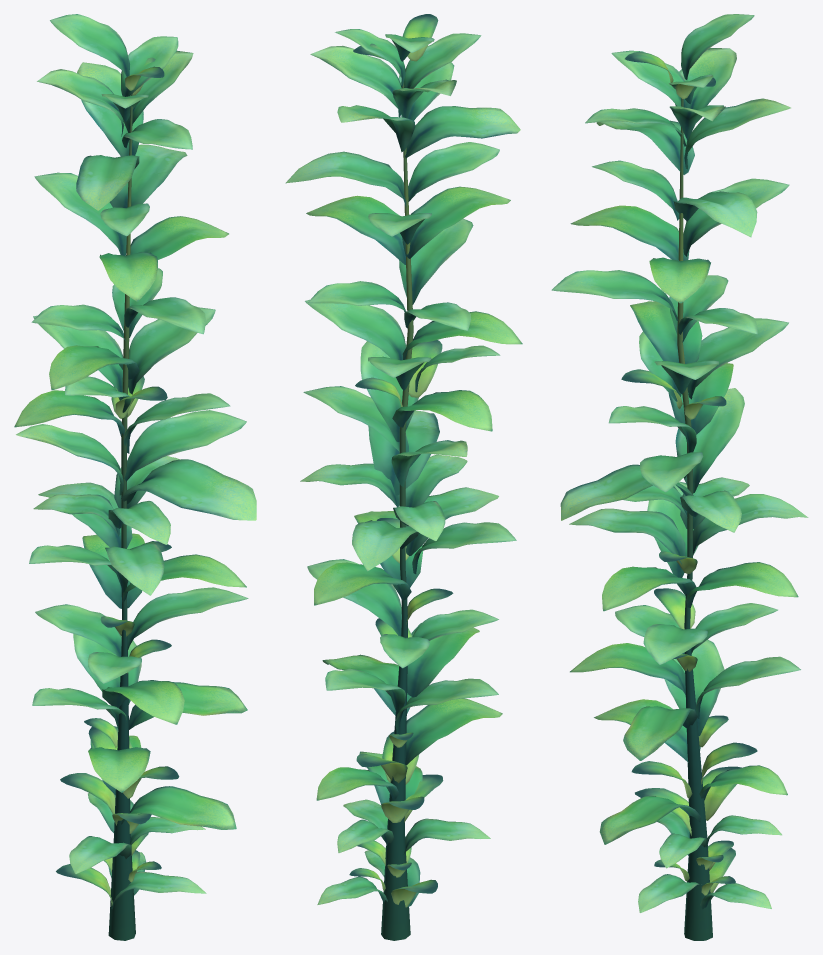
The model's file is Mode_KelpFourniGrand.fbx.
The picture shows the model from 3 angles, left to right: view 1: azimuth 30°, elevation 25°; view 2: azimuth 150°, elevation 25°; view 3: azimuth 270°, elevation 25°; orthographic projection.
Visible parts, largest first — view 1: pPlane61 (×2), pPlane15 (×2), pCylinder1, pPlane38 (×2), pPlane37 (×2), pPlane52 (×2), pPlane57 (×2), pPlane12 (×2), pPlane9 (×2), pPlane56 (×2), pPlane51 (×2), pPlane11 (×2) (+19 smaller); view 2: pPlane61 (×2), pCylinder1, pPlane52 (×2), pPlane12 (×2), pPlane9 (×2), pPlane51 (×2), pPlane37 (×2), pPlane38 (×2), pPlane56 (×2), pPlane21 (×2), pPlane15 (×2), pPlane11 (×2) (+24 smaller); view 3: pCylinder1, pPlane56 (×2), pPlane38 (×2), pPlane7 (×2), pPlane57 (×2), pPlane37 (×2), pPlane9 (×2), pPlane61 (×2), pPlane12 (×2), pPlane1 (×2), pPlane52 (×2), pPlane11 (×2) (+22 smaller).
Boxes of the visible parts, x1=… form: pPlane61 (×2): x1=76, y1=155, x2=256, y2=520; pPlane15 (×2): x1=122, y1=119, x2=246, y2=481; pCylinder1: x1=108, y1=93, x2=135, y2=940; pPlane38 (×2): x1=49, y1=345, x2=184, y2=724; pPlane37 (×2): x1=124, y1=297, x2=248, y2=650; pPlane52 (×2): x1=14, y1=390, x2=150, y2=792; pPlane57 (×2): x1=16, y1=62, x2=143, y2=495; pPlane12 (×2): x1=38, y1=144, x2=187, y2=548; pPlane9 (×2): x1=82, y1=216, x2=228, y2=608; pPlane56 (×2): x1=99, y1=252, x2=246, y2=602; pPlane51 (×2): x1=73, y1=307, x2=215, y2=708; pPlane11 (×2): x1=29, y1=172, x2=128, y2=592; pPlane61 (×2): x1=368, y1=106, x2=520, y2=495; pCylinder1: x1=381, y1=82, x2=413, y2=940; pPlane52 (×2): x1=392, y1=390, x2=502, y2=765; pPlane12 (×2): x1=285, y1=151, x2=418, y2=571; pPlane9 (×2): x1=306, y1=195, x2=411, y2=605; pPlane51 (×2): x1=305, y1=299, x2=406, y2=714; pPlane37 (×2): x1=307, y1=218, x2=473, y2=636; pPlane38 (×2): x1=402, y1=311, x2=522, y2=697; pPlane56 (×2): x1=354, y1=186, x2=510, y2=587; pPlane21 (×2): x1=360, y1=33, x2=481, y2=441; pPlane15 (×2): x1=303, y1=62, x2=454, y2=452; pPlane11 (×2): x1=368, y1=213, x2=516, y2=574; pCylinder1: x1=677, y1=98, x2=712, y2=940; pPlane56 (×2): x1=570, y1=205, x2=696, y2=611; pPlane38 (×2): x1=570, y1=301, x2=702, y2=695; pPlane7 (×2): x1=664, y1=318, x2=788, y2=735; pPlane57 (×2): x1=675, y1=98, x2=790, y2=493; pPlane37 (×2): x1=551, y1=270, x2=707, y2=664; pPlane9 (×2): x1=649, y1=257, x2=798, y2=607; pPlane61 (×2): x1=560, y1=120, x2=694, y2=520; pPlane12 (×2): x1=673, y1=191, x2=808, y2=554; pPlane1 (×2): x1=569, y1=508, x2=701, y2=912; pPlane52 (×2): x1=594, y1=363, x2=733, y2=762; pPlane11 (×2): x1=647, y1=178, x2=789, y2=577.
Size of the model in its own units: 578 by 2333 by 604.
